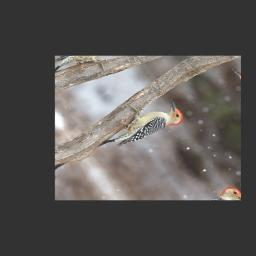Woodpecker: (83, 87, 187, 160)
